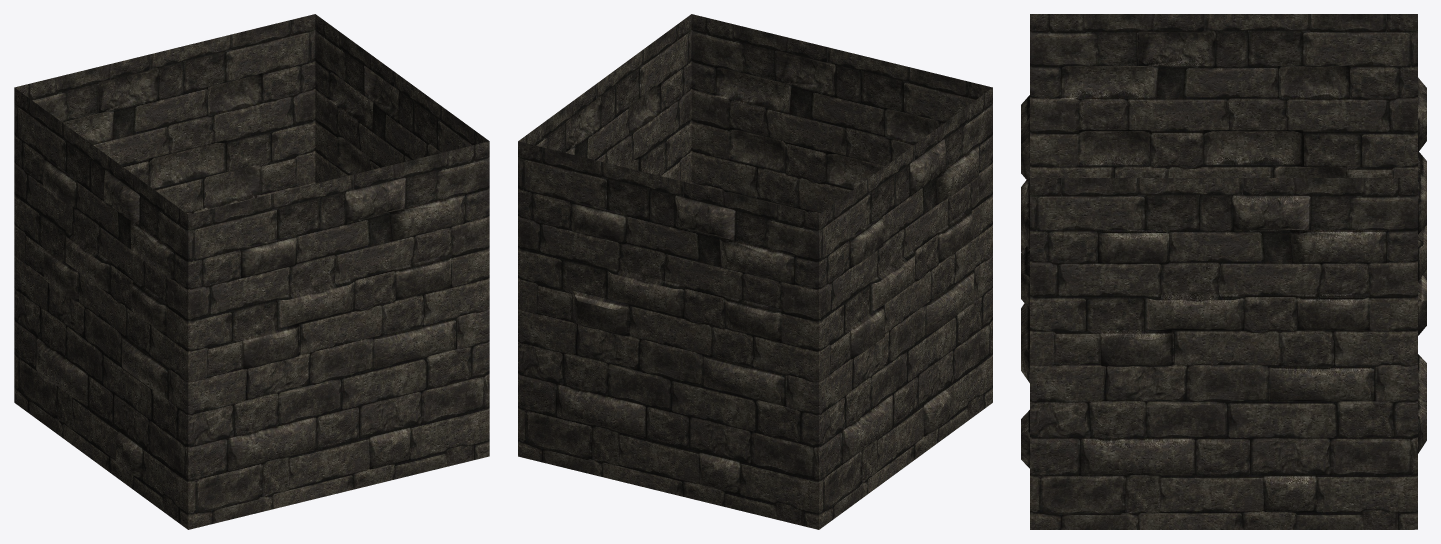
Rendered from blocktile.fbx.
3 renders of one model, left to right at view 1: azimuth 30°, elevation 25°; view 2: azimuth 150°, elevation 25°; view 3: azimuth 270°, elevation 25°, orthographic. The views are drawn at different scales.
Parts seen in each view (by area): view 1: polySurface4; view 2: polySurface4; view 3: polySurface4.
Boxes of the visible parts, x1,y1,x2,y2 form: polySurface4: (14, 14, 489, 529); polySurface4: (518, 14, 992, 529); polySurface4: (1021, 14, 1426, 529).
Size of the model in its own units: 1.05 by 1 by 1.05.
